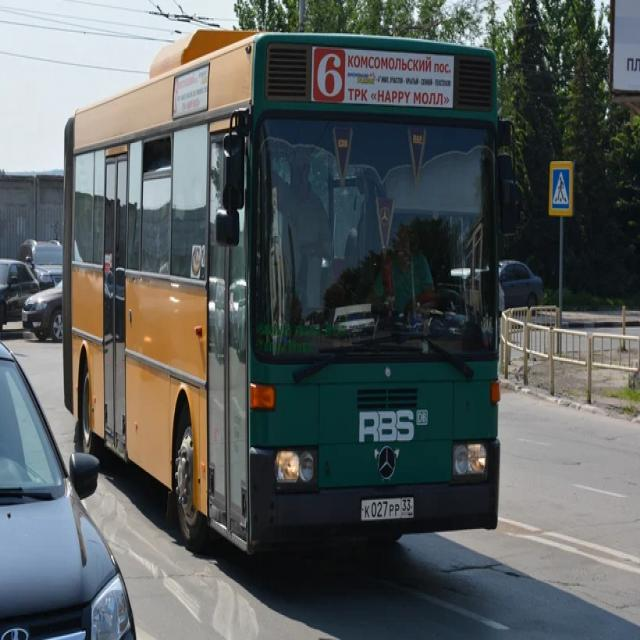number-of-bus: (316, 50, 345, 102)
